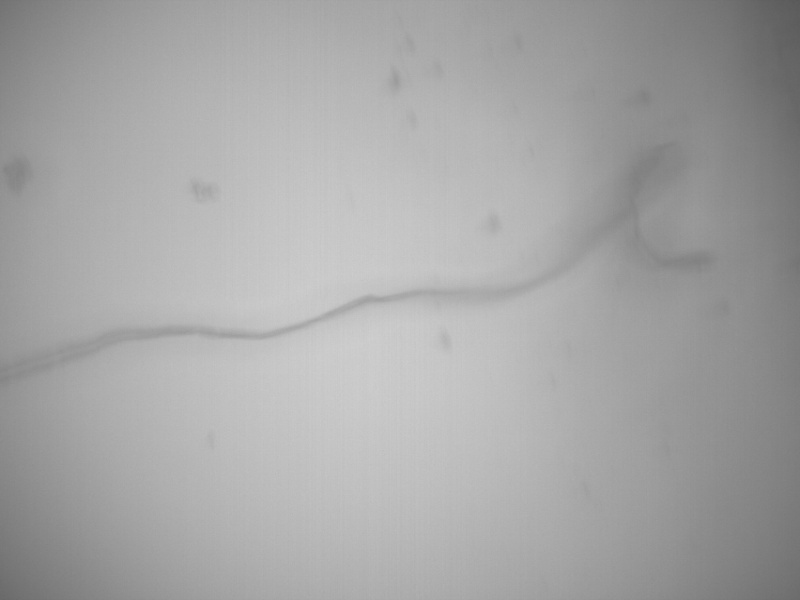fiber: (1, 135, 715, 386)
